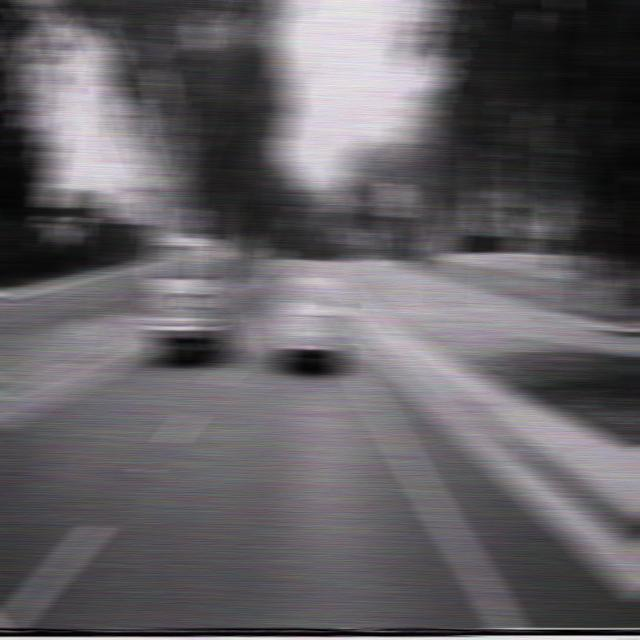speedLimit45: (382, 179, 407, 216), (100, 181, 124, 217)
